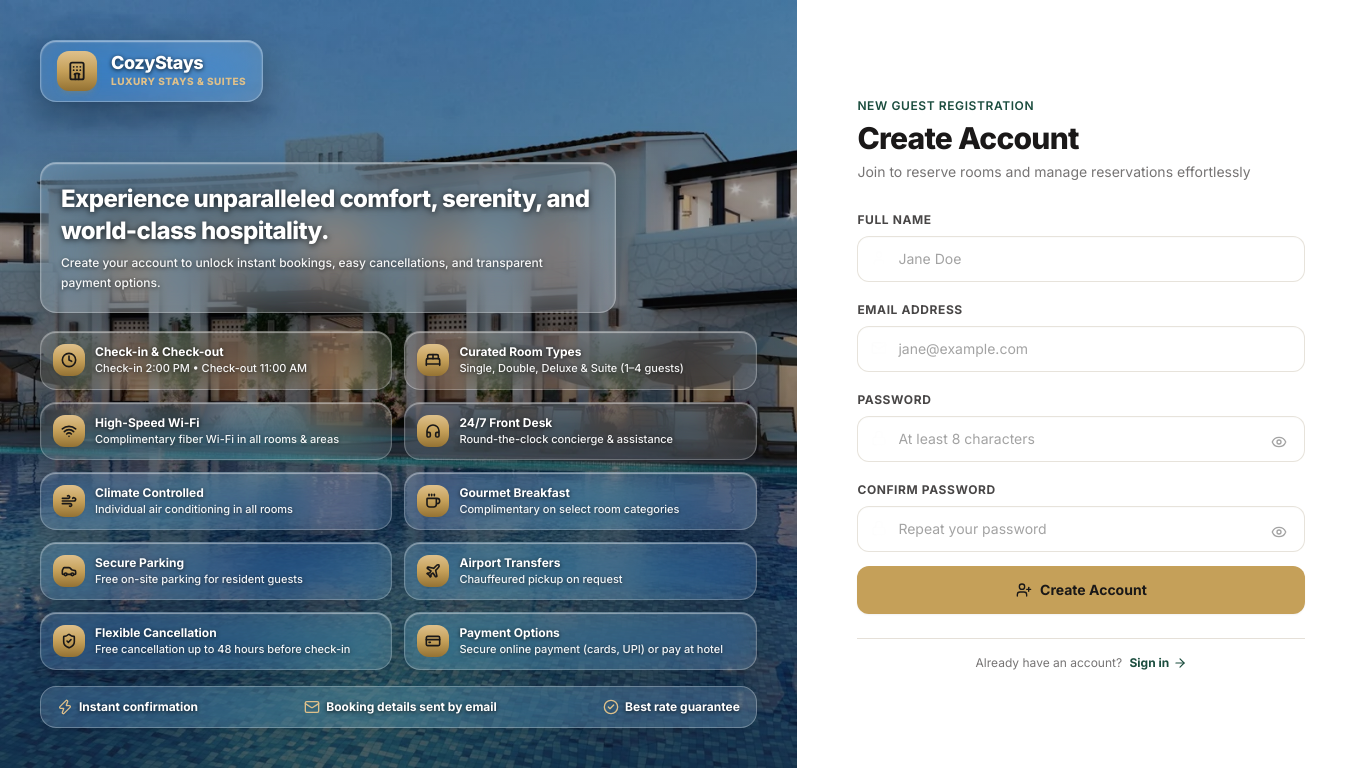
Test: Register Page › shows validation error for short password
Step 1. Type "Test User" into the field labelled "Full Name" → (1081, 258), box [857,236,1305,282]
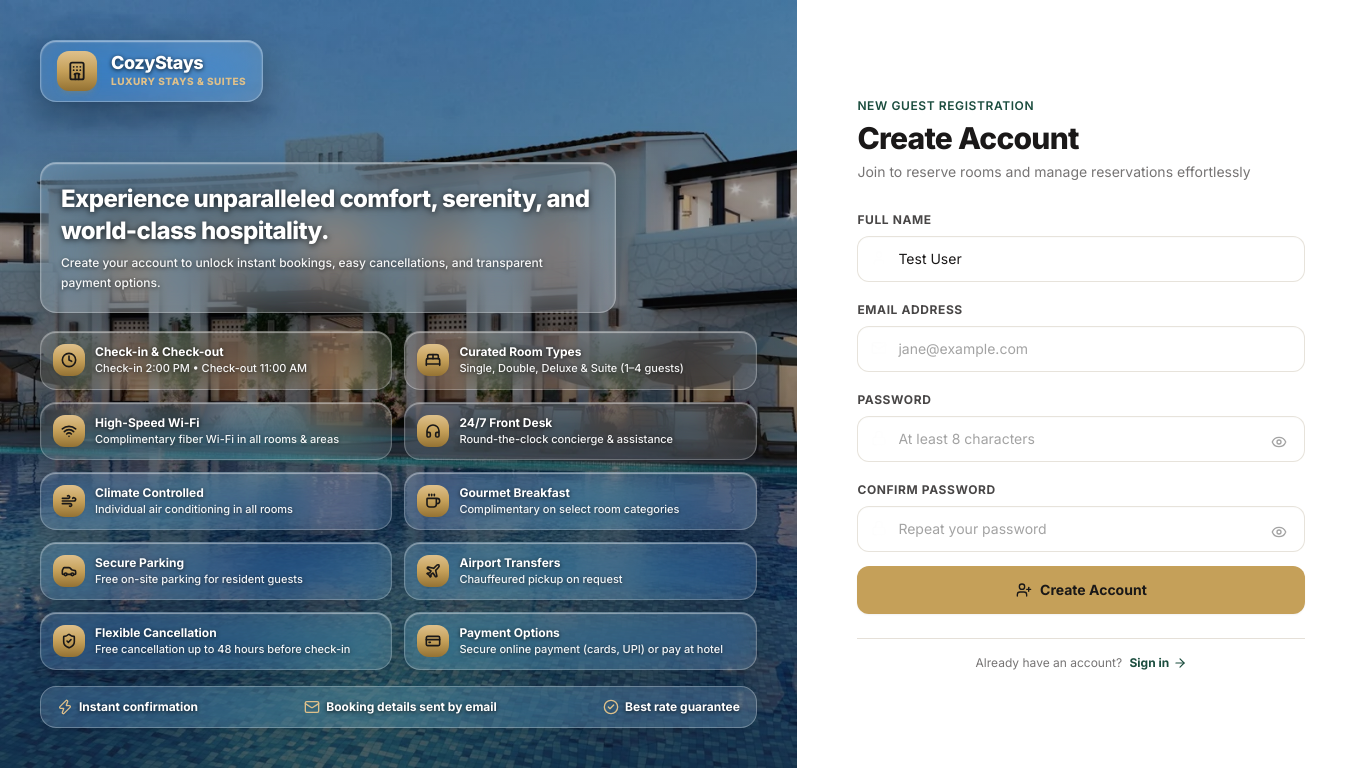
Step 2. Type "test@example.com" into the field labelled "Email Address" → (1081, 348), box [857,326,1305,372]
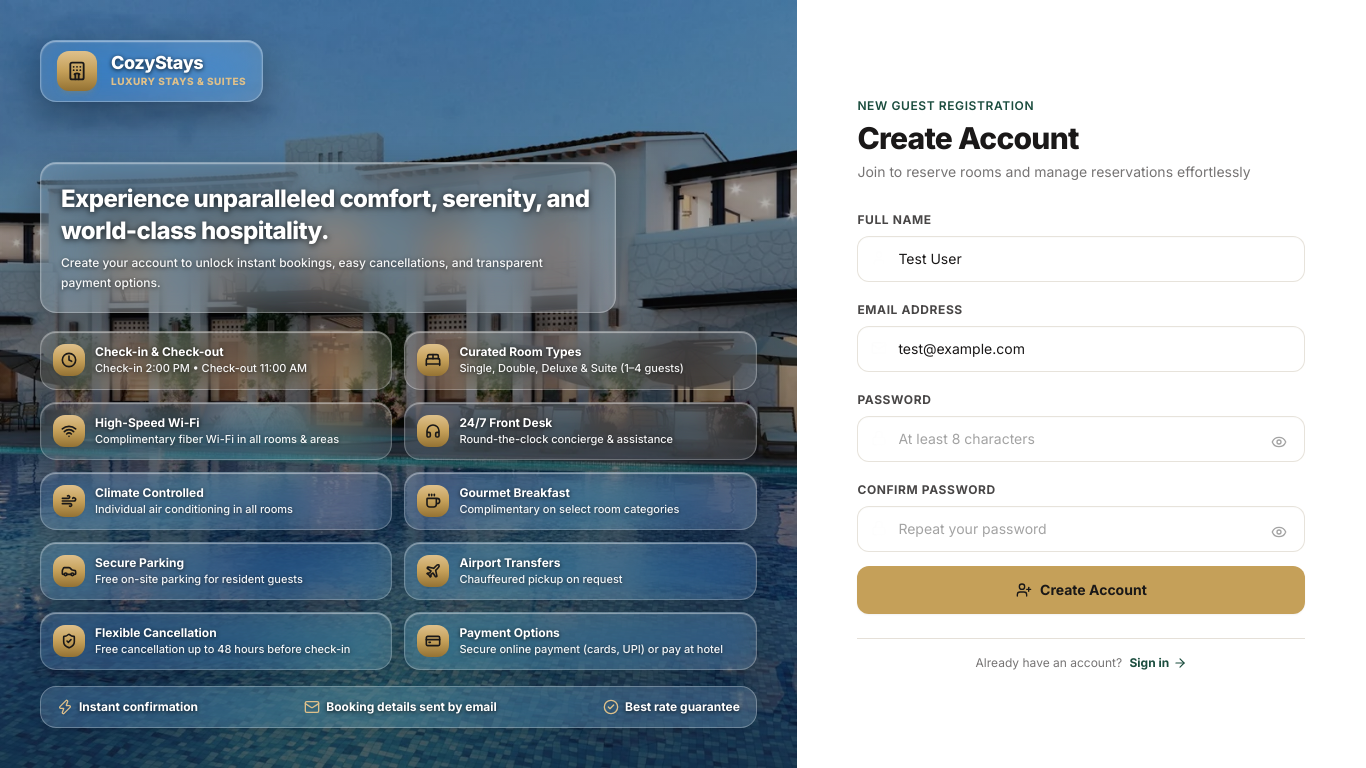
Step 3. Type "123" into the password field labelled "Password" → (1081, 438), box [857,416,1305,462]
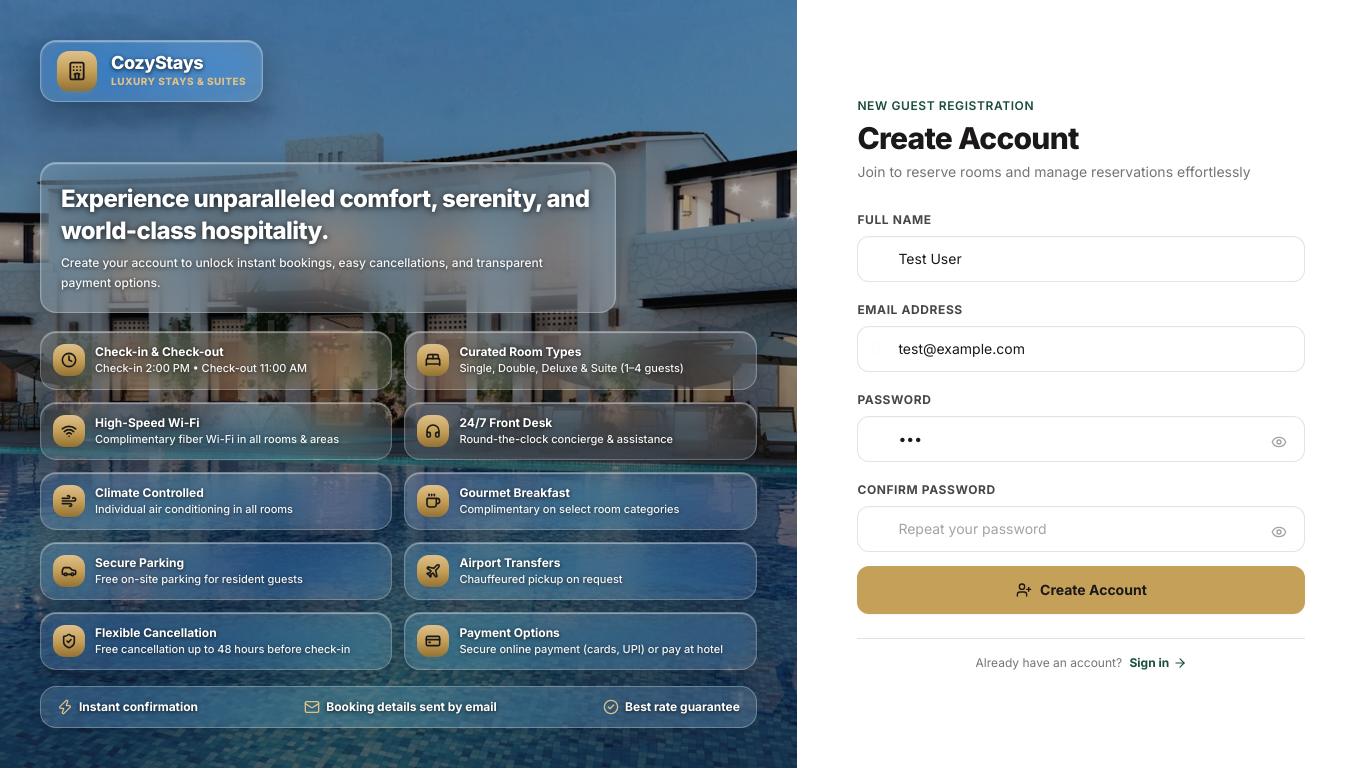
Step 4. Type "123" into the password field labelled "Confirm Password" → (1081, 528), box [857,506,1305,552]
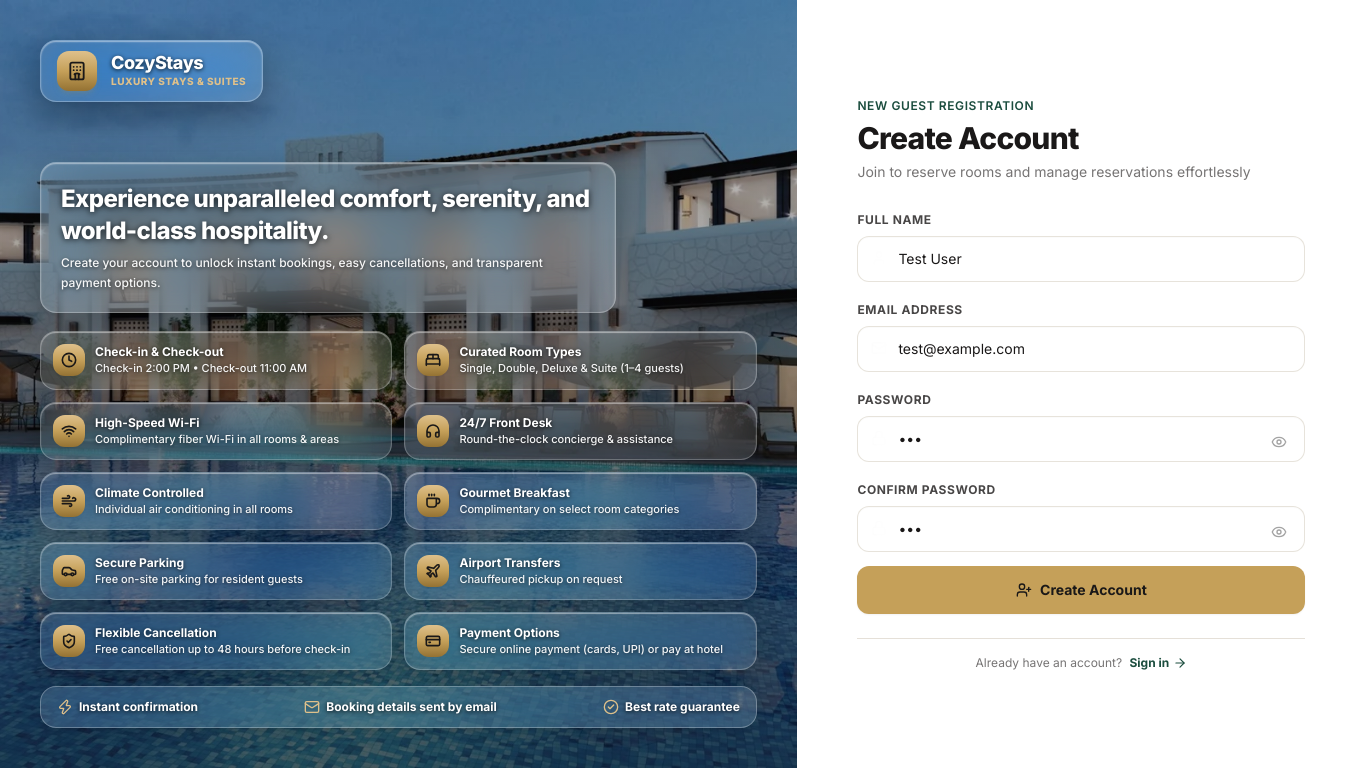
Step 5. Click the button "Create Account" → (1081, 590), box [857,566,1305,614]
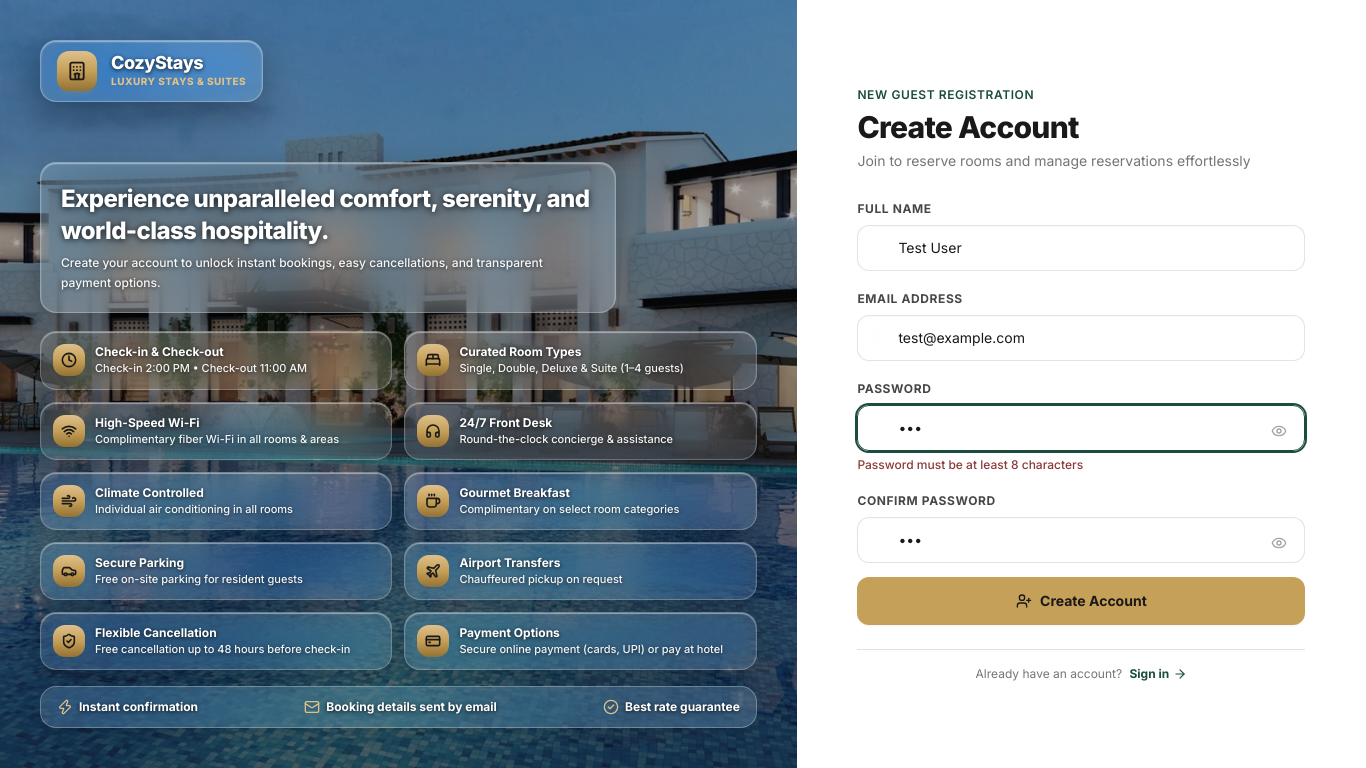
Now the text "Password must be at least 8 characters" is shown, box [857,456,1083,472]
